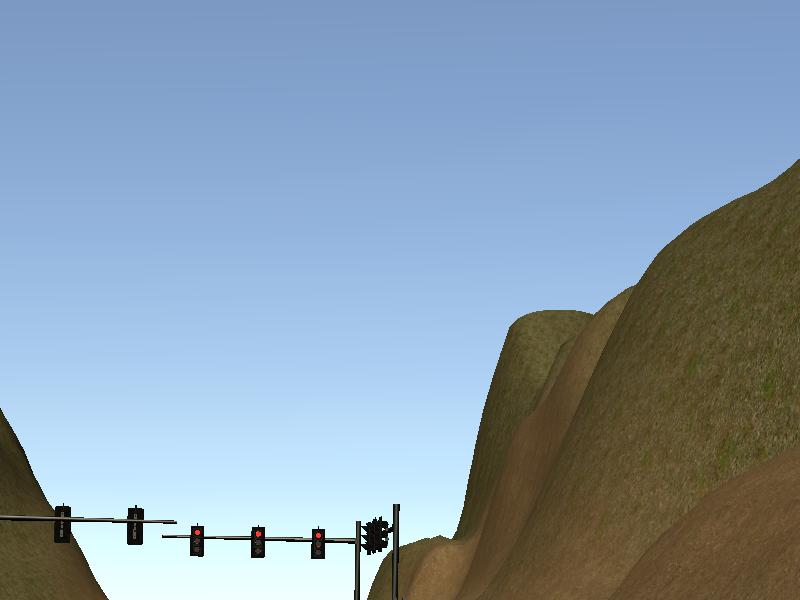Red: (251, 526, 265, 557), (311, 528, 325, 559), (190, 525, 203, 556)
